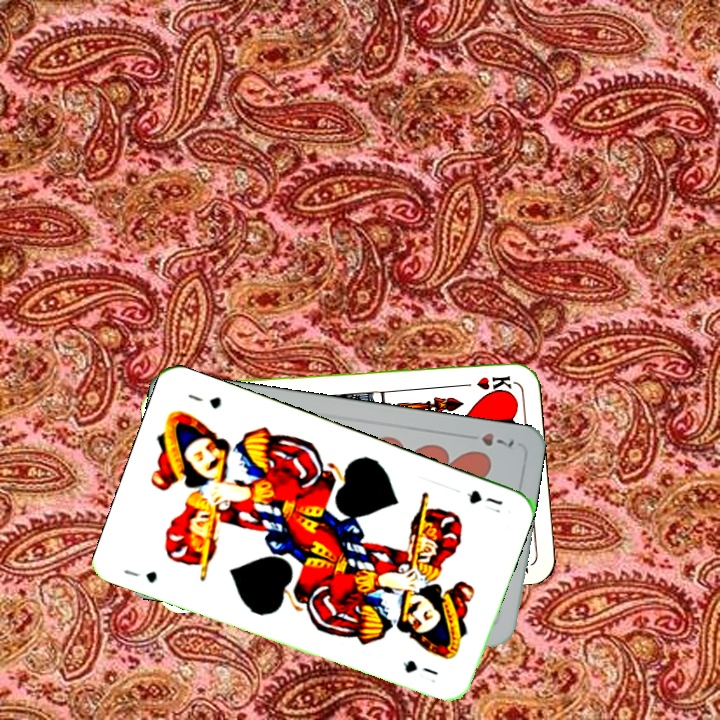GU: (462, 486, 506, 516), (119, 565, 160, 586)
H7: (460, 428, 517, 451)
HK: (454, 372, 514, 393)
